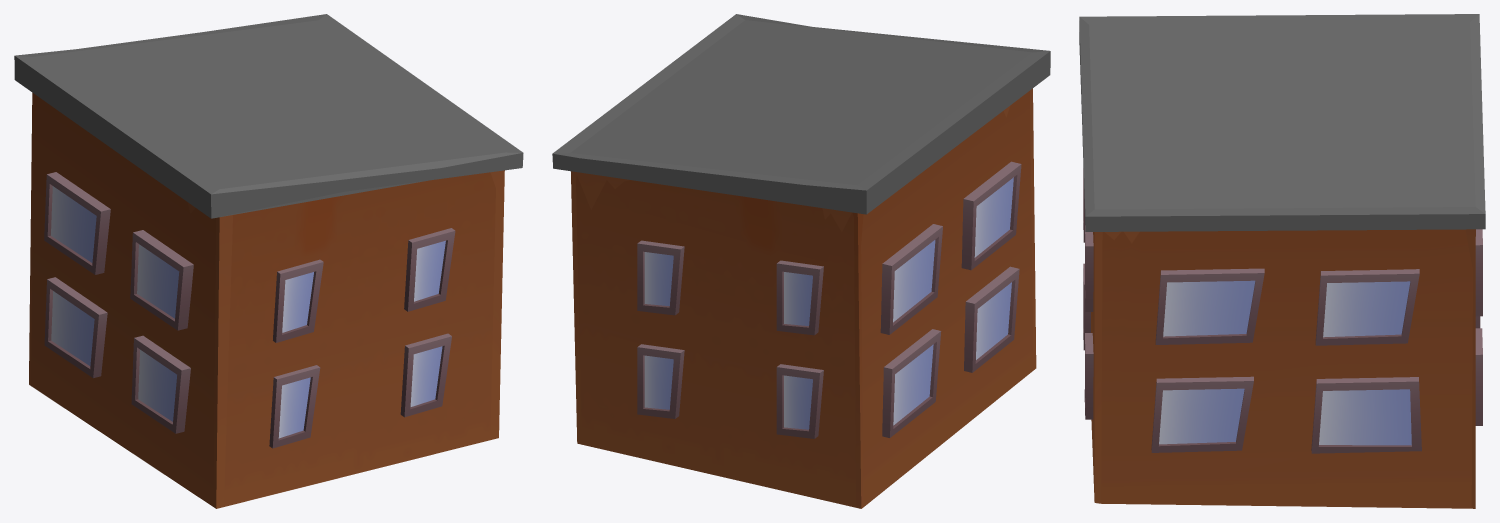
File: SM_Building6.fbx
The picture shows the model from 3 angles, left to right: view 1: azimuth 30°, elevation 25°; view 2: azimuth 150°, elevation 25°; view 3: azimuth 270°, elevation 25°; orthographic projection. The views are drawn at different scales.
Parts seen in each view (by area): view 1: Cube.048; view 2: Cube.048; view 3: Cube.048.
Part boxes in pixels (x1=…): Cube.048: x1=14, y1=14, x2=523, y2=508; Cube.048: x1=552, y1=14, x2=1050, y2=508; Cube.048: x1=1079, y1=14, x2=1485, y2=508.
Size of the model in its own units: 15.06 by 14.79 by 15.81.
